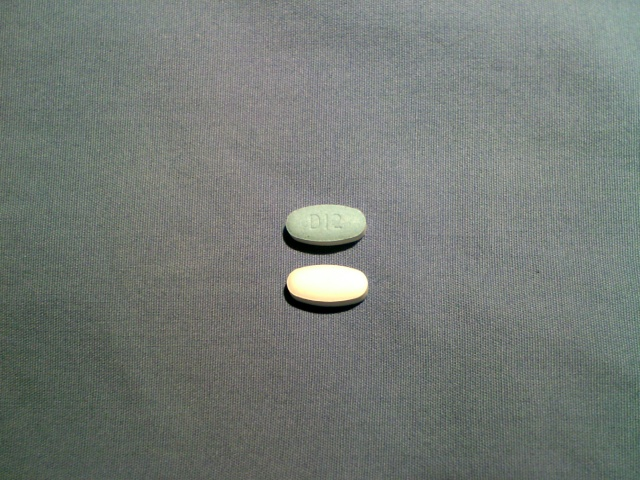2: (332, 212, 344, 230)
D: (309, 213, 322, 230)
I: (324, 212, 331, 234)
